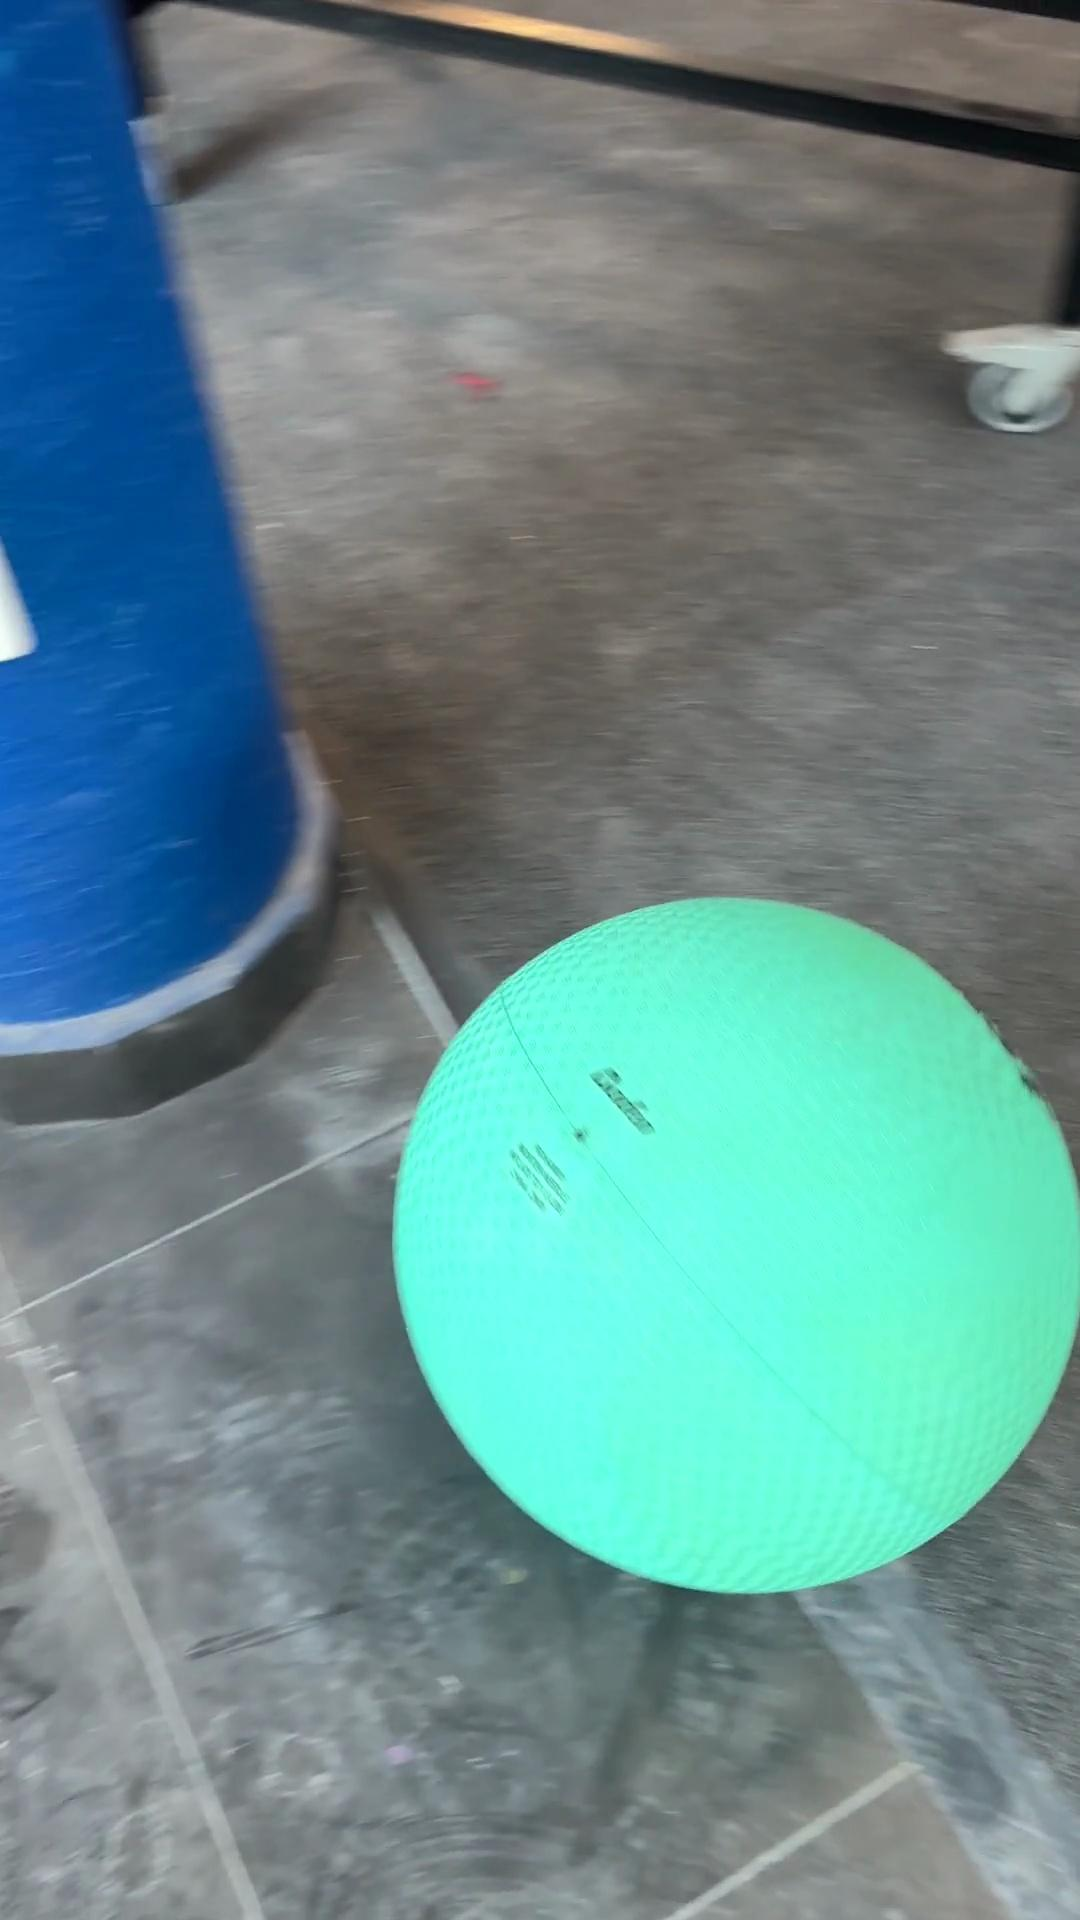ALGAE: (388, 891, 1077, 1597)
